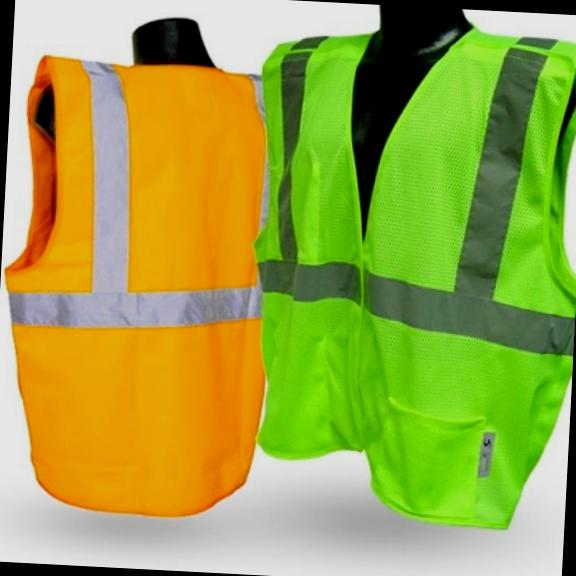safety_vest: (238, 6, 576, 535), (0, 50, 282, 529)
